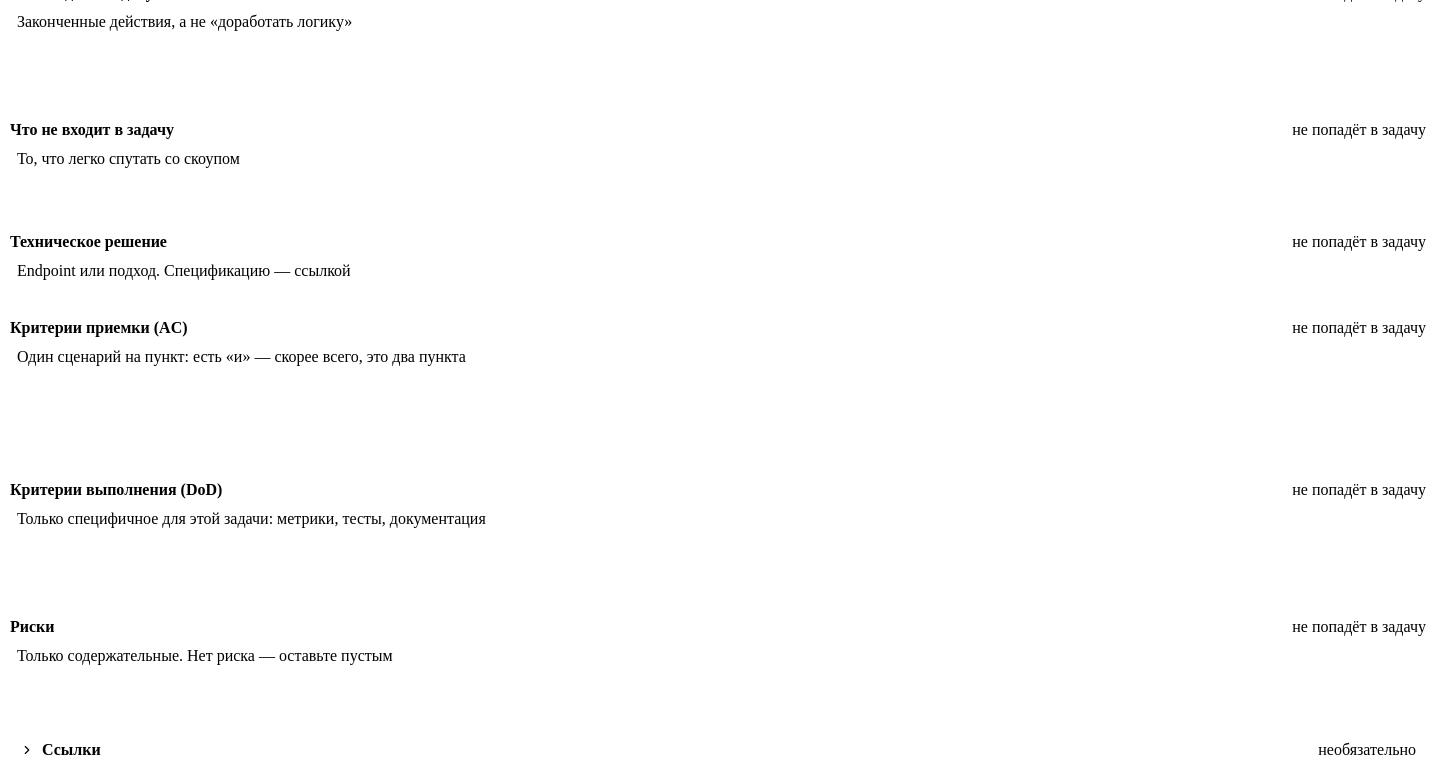
JiraTicketBuilder › links stay folded until they hold something
(page scrolled)
Expected: the text "Добавить ссылку" is not shown
What coordinates should you click on to do the following:
click the text "Ссылки"
I would click on:
 (71, 750)
Its box is [42,741,101,759].
(page scrolled)
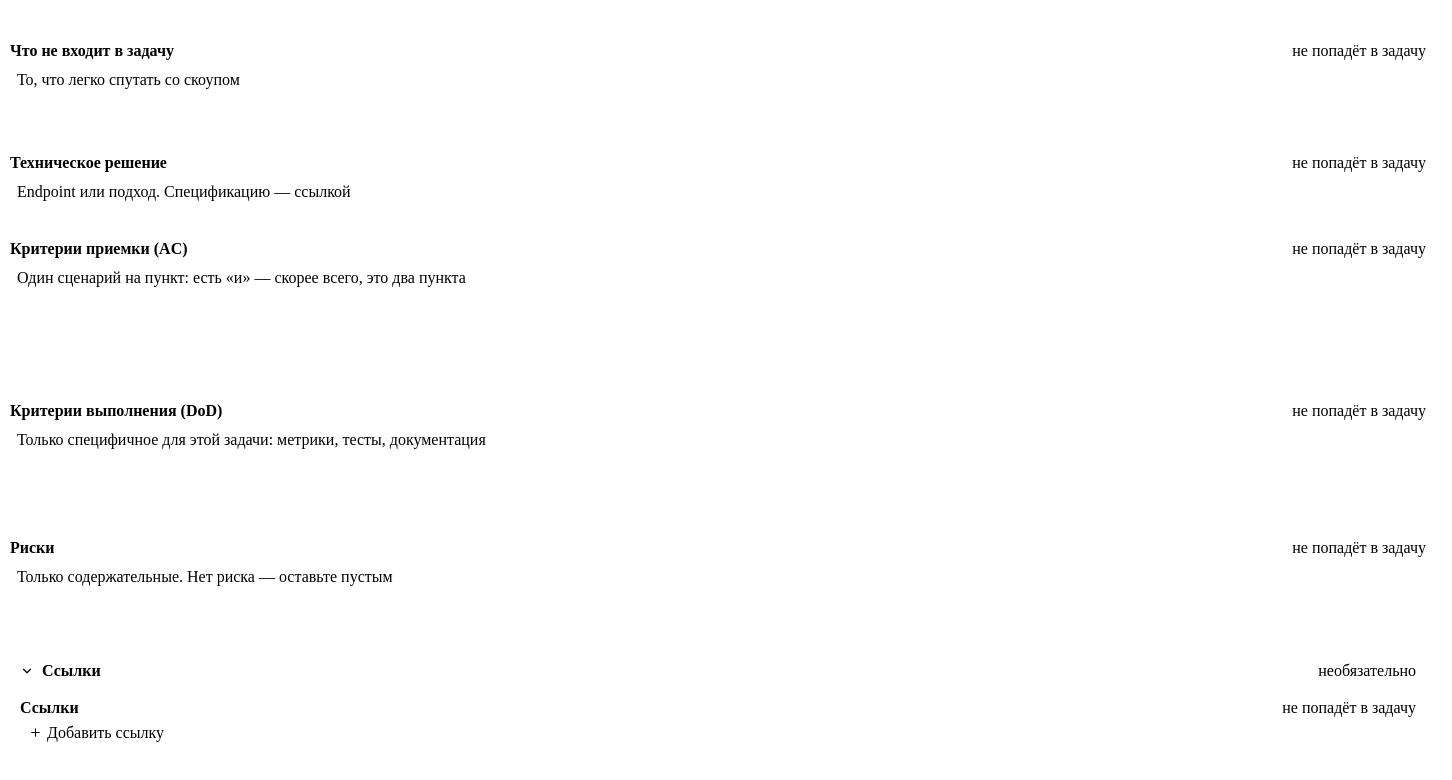
Expected: the button "Добавить ссылку" is shown, [20,720,173,746]
